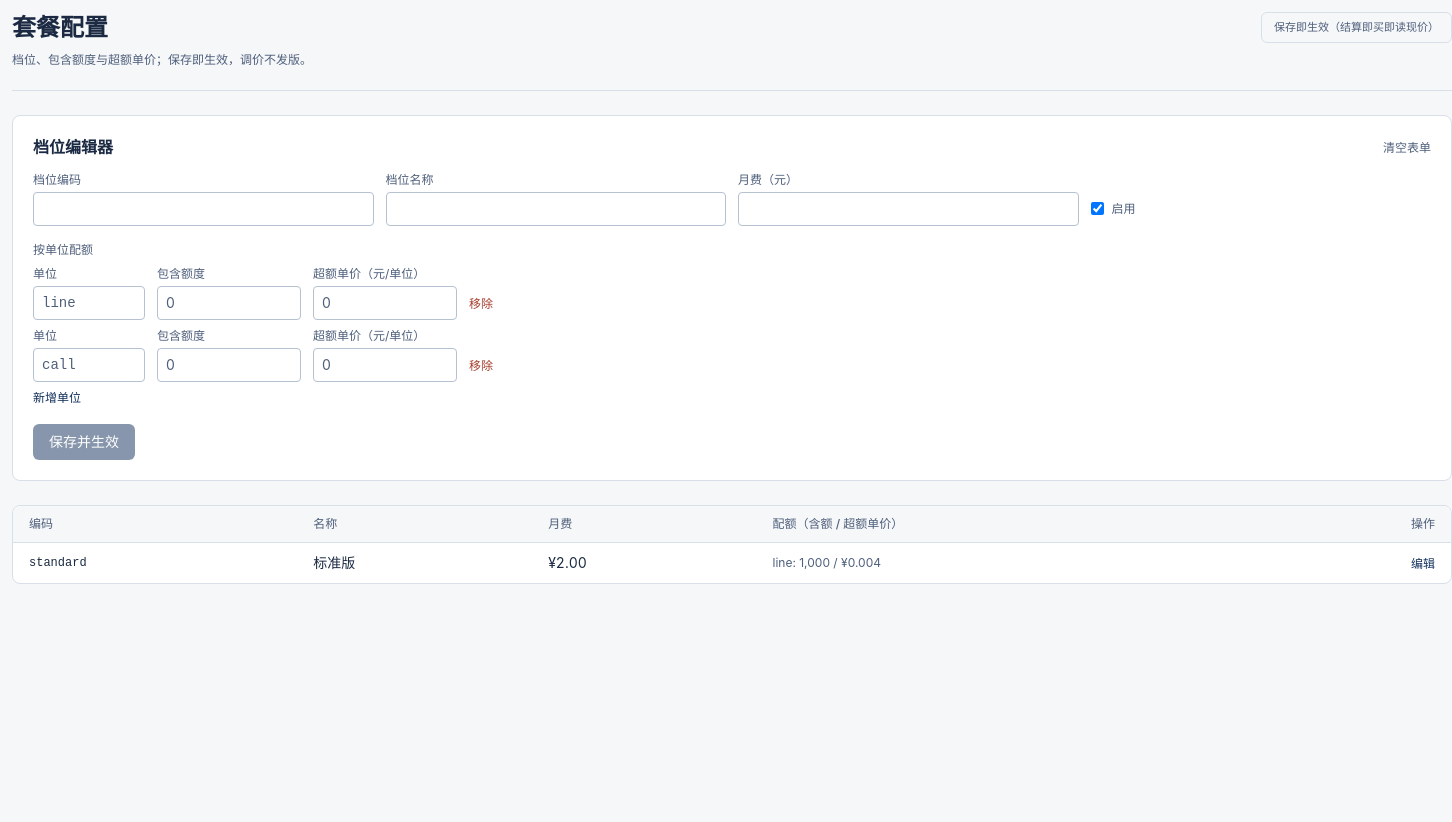
Test: PlansPage › loads plans and edits an existing one into the form
The image size is (1452, 822).
expect the text "standard" is shown: met, box x1=13 y1=542 x2=297 y2=582
Click the button with test id "plan-edit-standard" at x=1423, y=564, box x1=1411 y1=556 x2=1435 y2=572
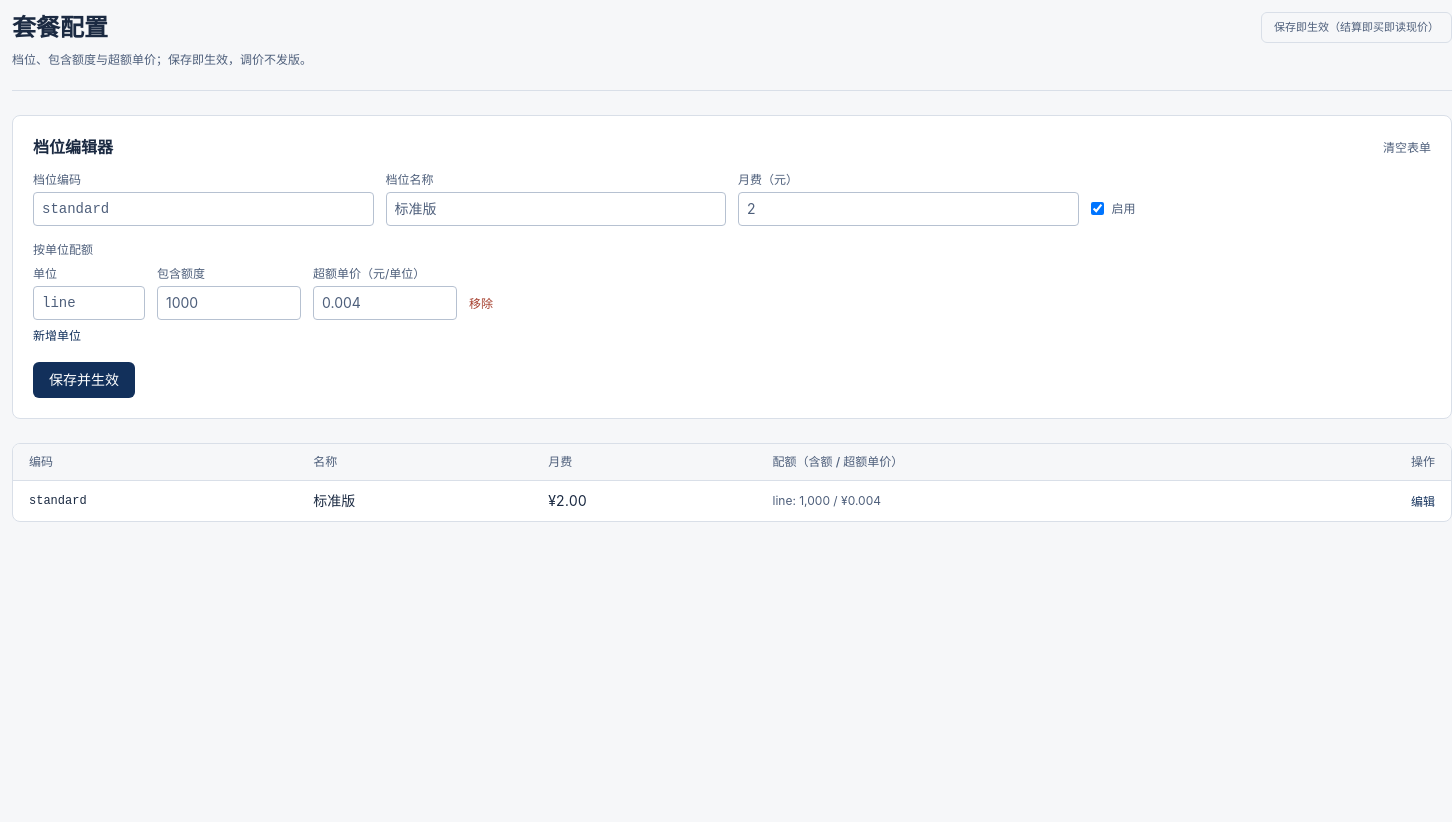
expect the field with test id "plan-name" holds "标准版": met, box x1=386 y1=192 x2=726 y2=226
expect the number field with test id "plan-monthly" holds "2": met, box x1=738 y1=192 x2=1078 y2=226
